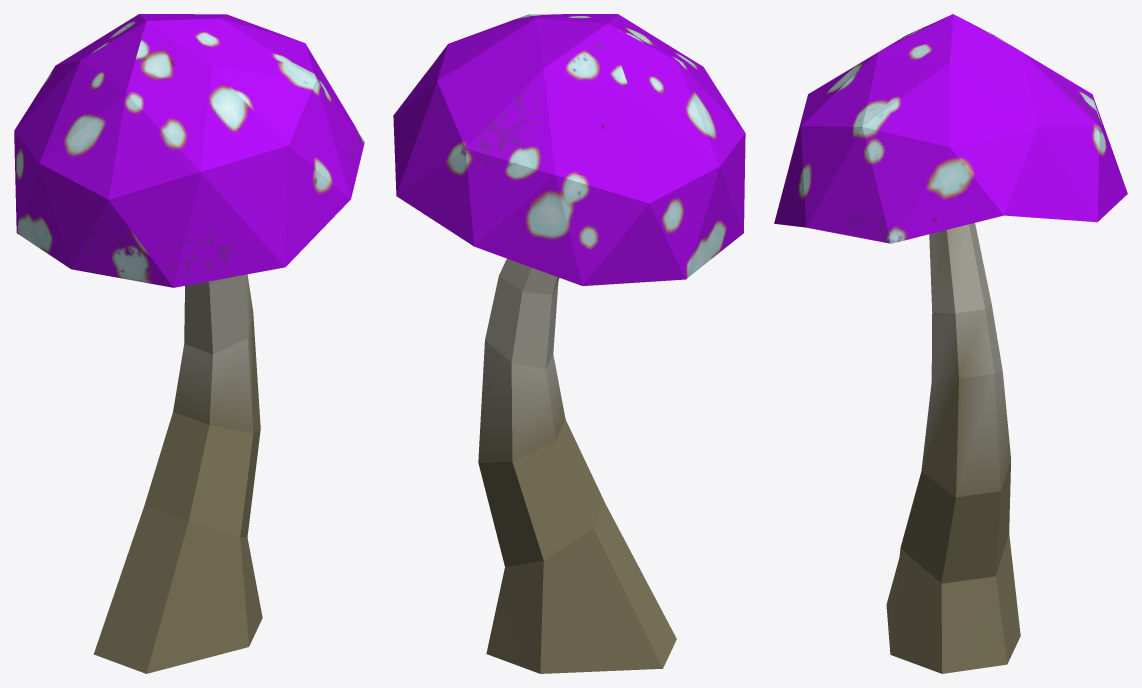
File: cogumeloroxo.fbx
3 views of the same model, side by side, from view 1: azimuth 30°, elevation 25°; view 2: azimuth 150°, elevation 25°; view 3: azimuth 270°, elevation 25° (orthographic). The views are drawn at different scales.
Visible parts, largest first — view 1: Cylinder.010; view 2: Cylinder.010; view 3: Cylinder.010.
Boxes of the visible parts, left/top/right/bottom form: Cylinder.010: left=14, top=14, right=364, bottom=673; Cylinder.010: left=393, top=14, right=745, bottom=673; Cylinder.010: left=774, top=14, right=1127, bottom=673.
Bounding box in the file's own units: 86.93 × 174 × 92.02.
